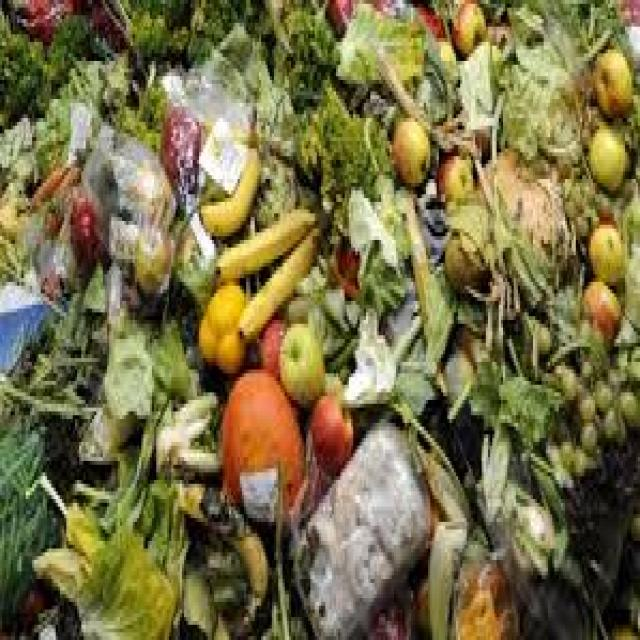food_waste: (21, 50, 612, 610)
